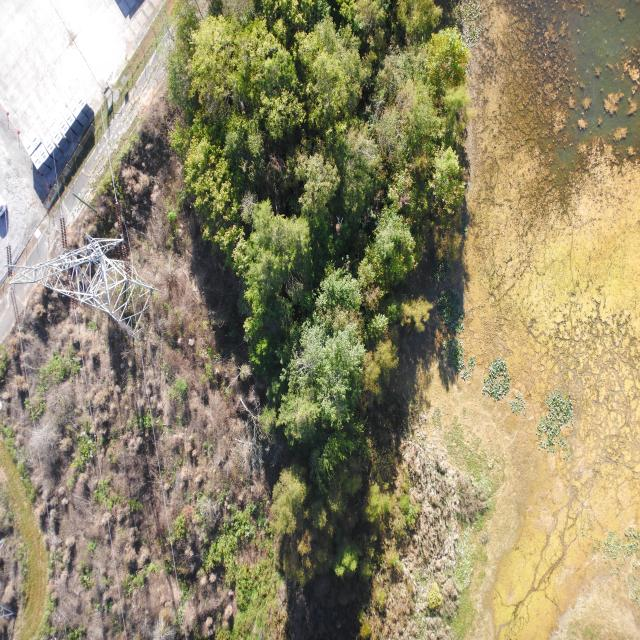Area of Interest: (185, 11, 461, 541)
